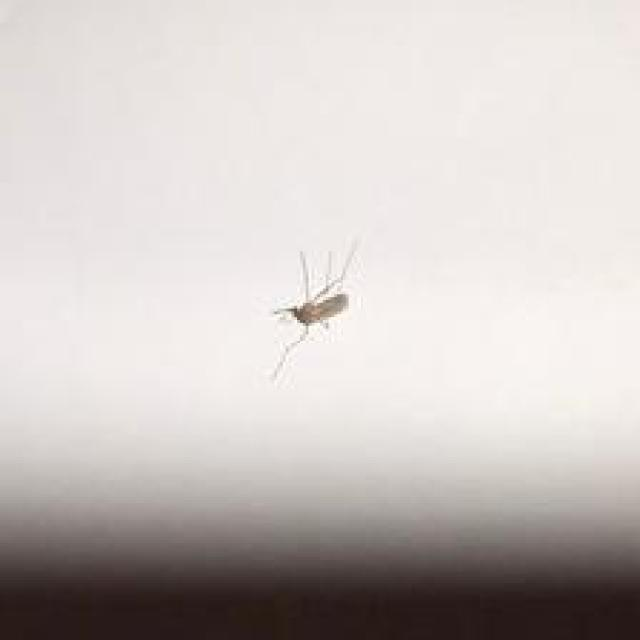Culex: (267, 240, 359, 380)
